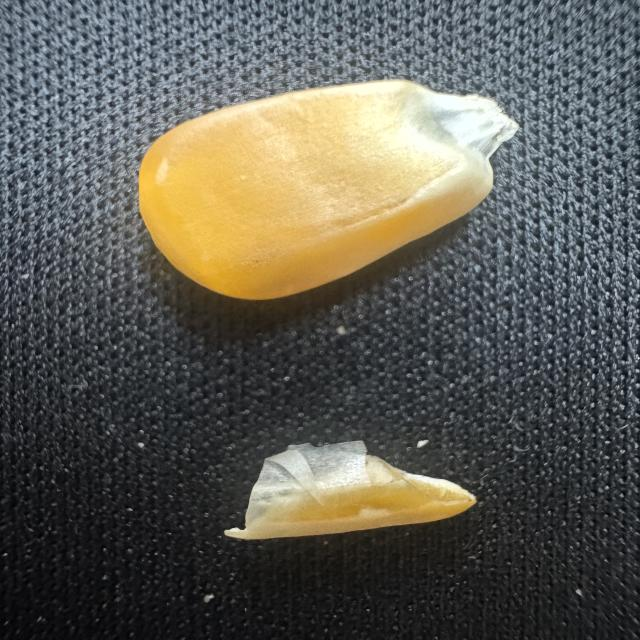Bad-Seed: (208, 435, 485, 568)
Good-Seed: (123, 70, 518, 306)
